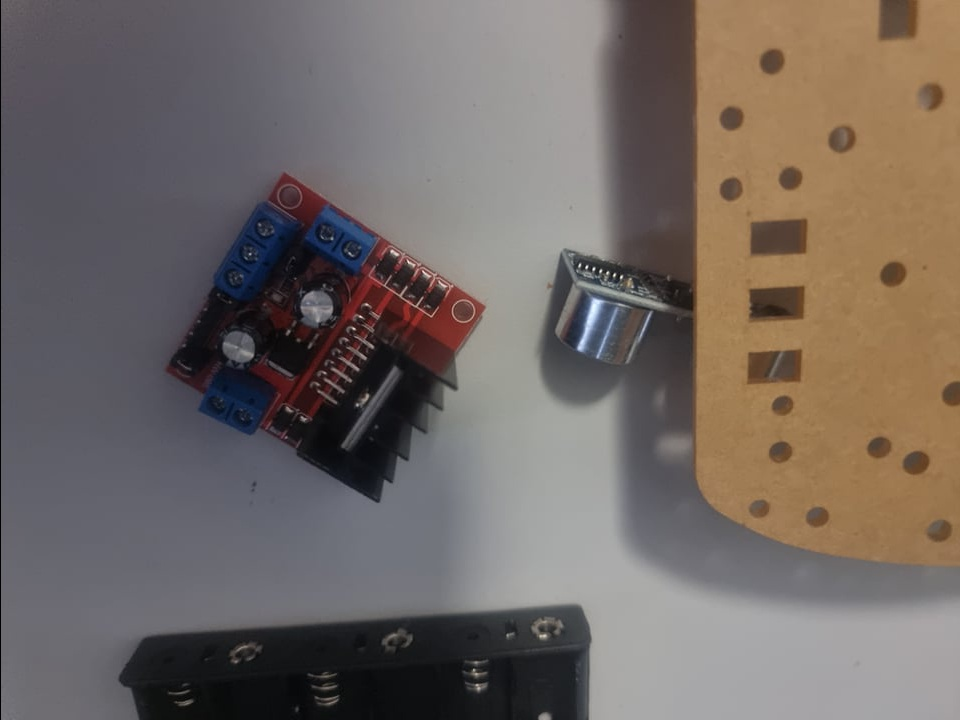BATTERY BOX: (114, 598, 597, 720)
MOTOR: (157, 175, 485, 509)
SENSOR: (544, 238, 686, 389)
